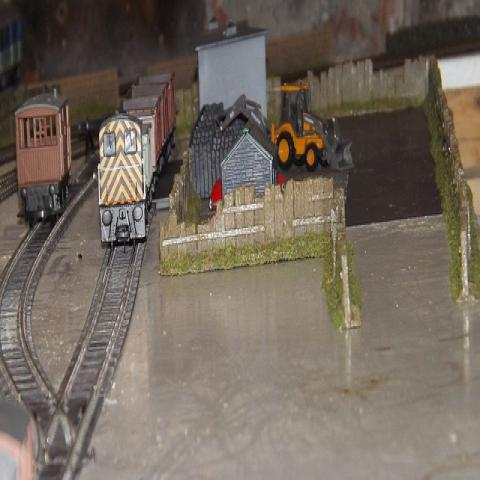truck: (272, 83, 352, 174)
